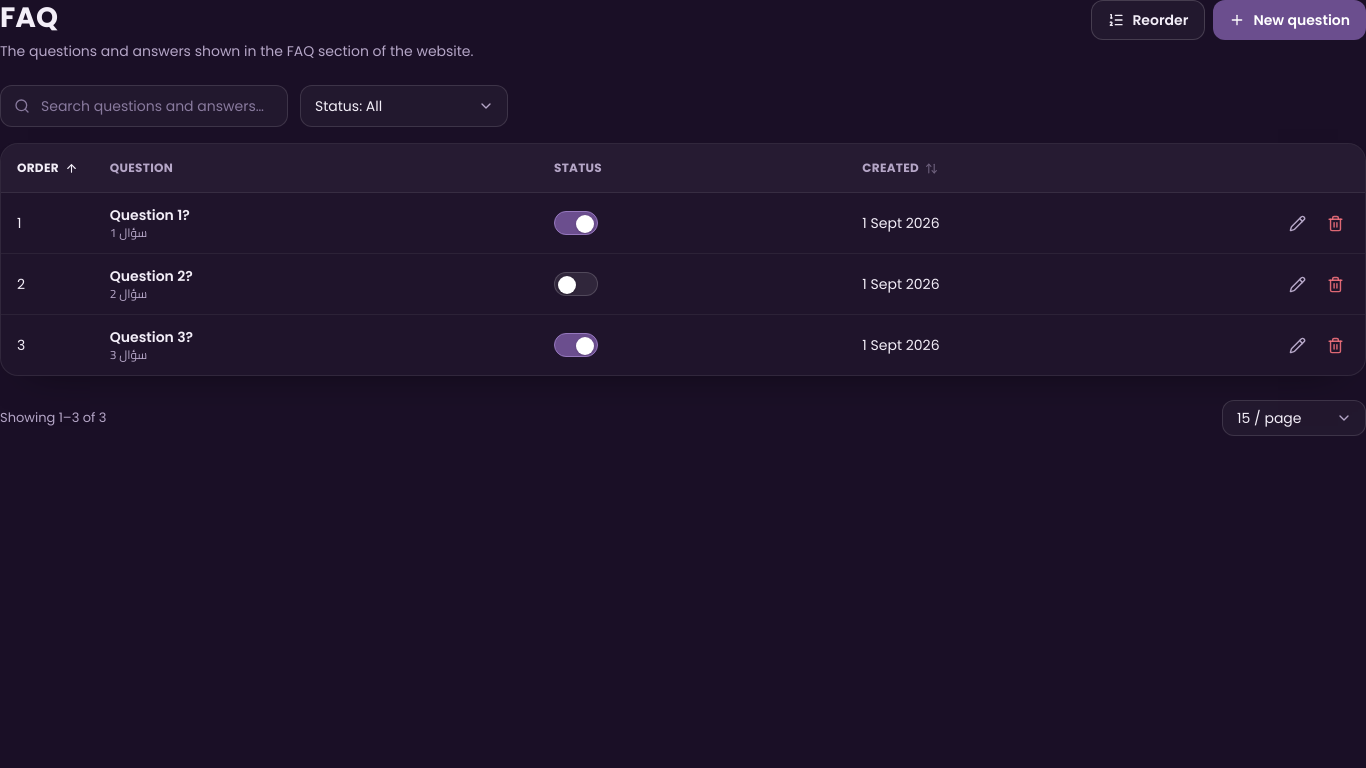
Test: FaqList › delete › asks first, then deletes and refreshes the list
expect the text "Question 2?" is shown: met, box [110,266,193,286]
Click the button named "Delete" in the row of "Question 2?" at coordinates (1335, 284), box [1317,266,1353,302]
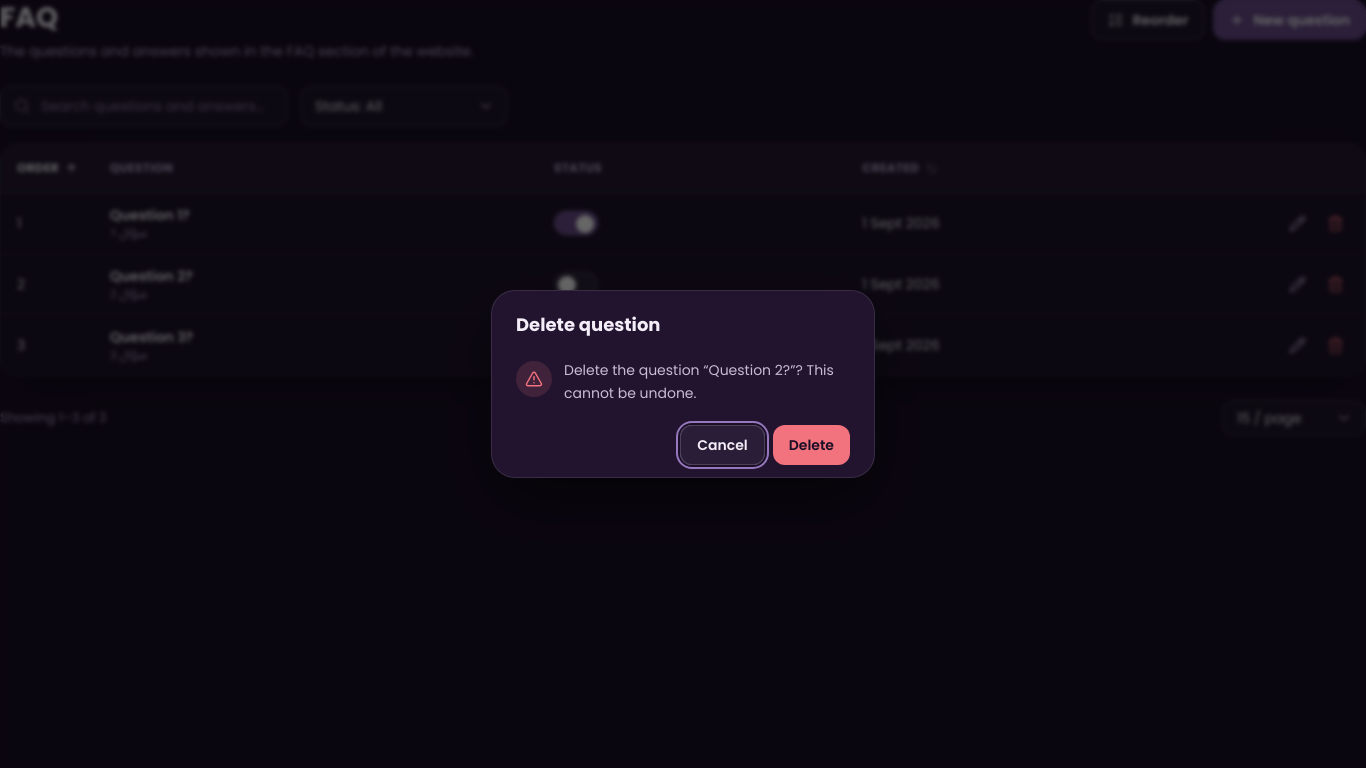
expect the dialog "Delete question" shows "Delete the question “Question 2?”? This cannot be undone.": met, box [564,360,834,403]
Click the button "Delete" at coordinates (811, 445), box [773,425,850,465]
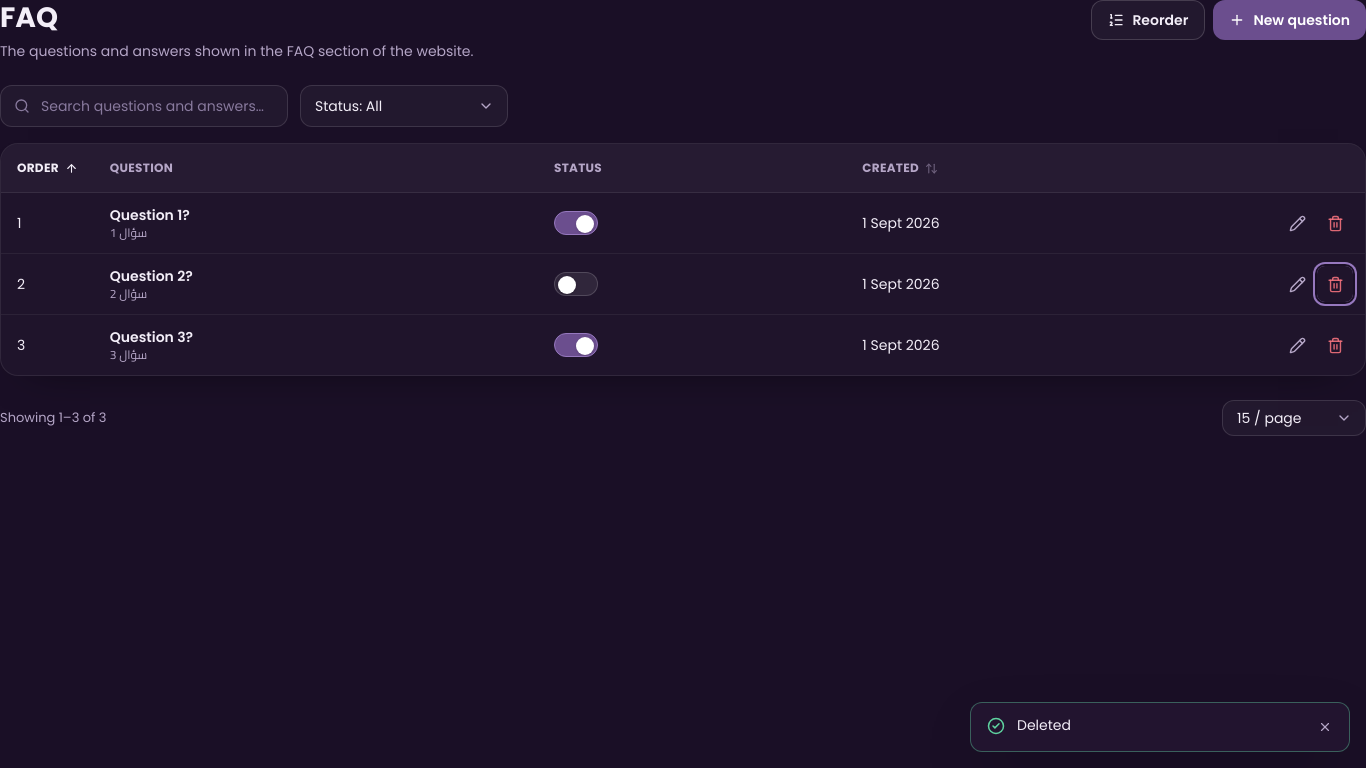
expect the text "Deleted" is shown: met, box [1017,715,1071,735]
